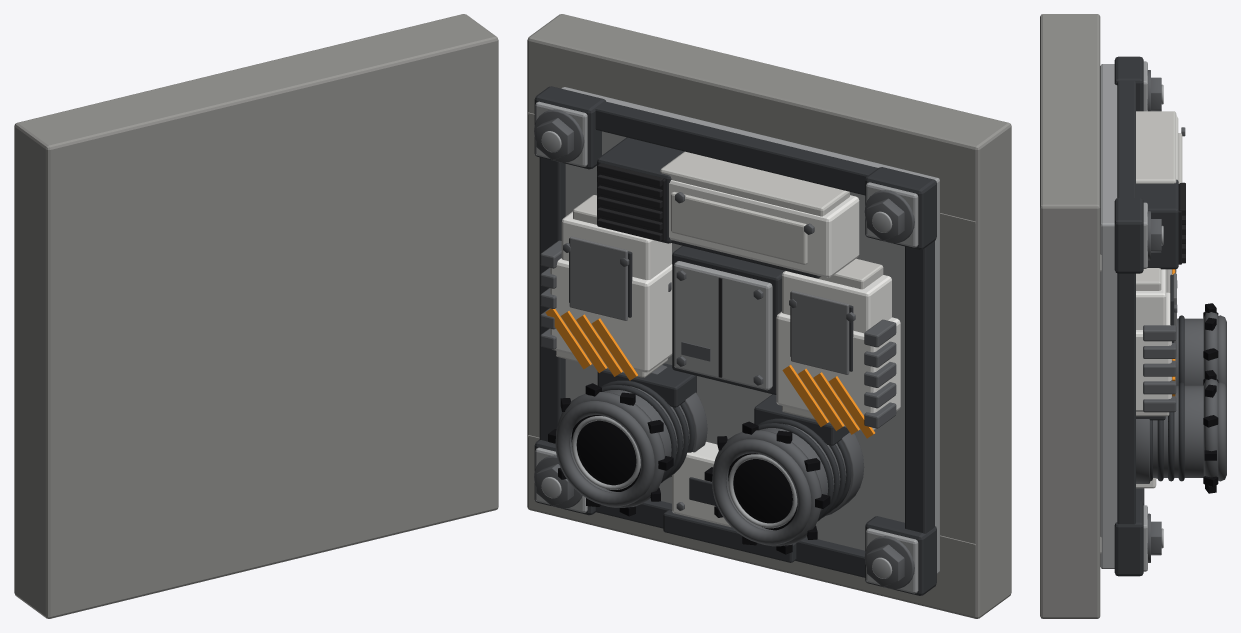
Rendered from Flamethrower.fbx.
The picture shows the model from 3 angles, left to right: view 1: azimuth 30°, elevation 25°; view 2: azimuth 150°, elevation 25°; view 3: azimuth 270°, elevation 25°; orthographic projection. The views are drawn at different scales.
Parts seen in each view (by area): view 1: Wall Slab; view 2: Wall Slab, Steel Plate, Top Module, Left Pod, Right Pod, Barrel R, Barrel L, Centre Console, Corner Bolts, Bottom Box; view 3: Wall Slab, Steel Plate, Barrel R, Top Module, Right Pod, Barrel L, Corner Bolts.
Boxes of the visible parts, x1=… form: Wall Slab: x1=14, y1=14, x2=498, y2=618; Wall Slab: x1=527, y1=14, x2=1011, y2=618; Steel Plate: x1=534, y1=86, x2=939, y2=595; Top Module: x1=597, y1=137, x2=859, y2=278; Left Pod: x1=776, y1=258, x2=900, y2=438; Right Pod: x1=540, y1=195, x2=672, y2=380; Barrel R: x1=548, y1=363, x2=707, y2=516; Barrel L: x1=704, y1=394, x2=864, y2=554; Centre Console: x1=672, y1=245, x2=784, y2=394; Corner Bolts: x1=534, y1=109, x2=914, y2=589; Bottom Box: x1=663, y1=442, x2=796, y2=562; Wall Slab: x1=1040, y1=14, x2=1101, y2=618; Steel Plate: x1=1100, y1=56, x2=1147, y2=576; Barrel R: x1=1136, y1=370, x2=1226, y2=493; Top Module: x1=1136, y1=111, x2=1185, y2=269; Right Pod: x1=1136, y1=268, x2=1177, y2=416; Barrel L: x1=1172, y1=303, x2=1226, y2=388; Corner Bolts: x1=1147, y1=70, x2=1163, y2=562.
Size of the model in its own units: 1.82 by 1.82 by 0.744.
